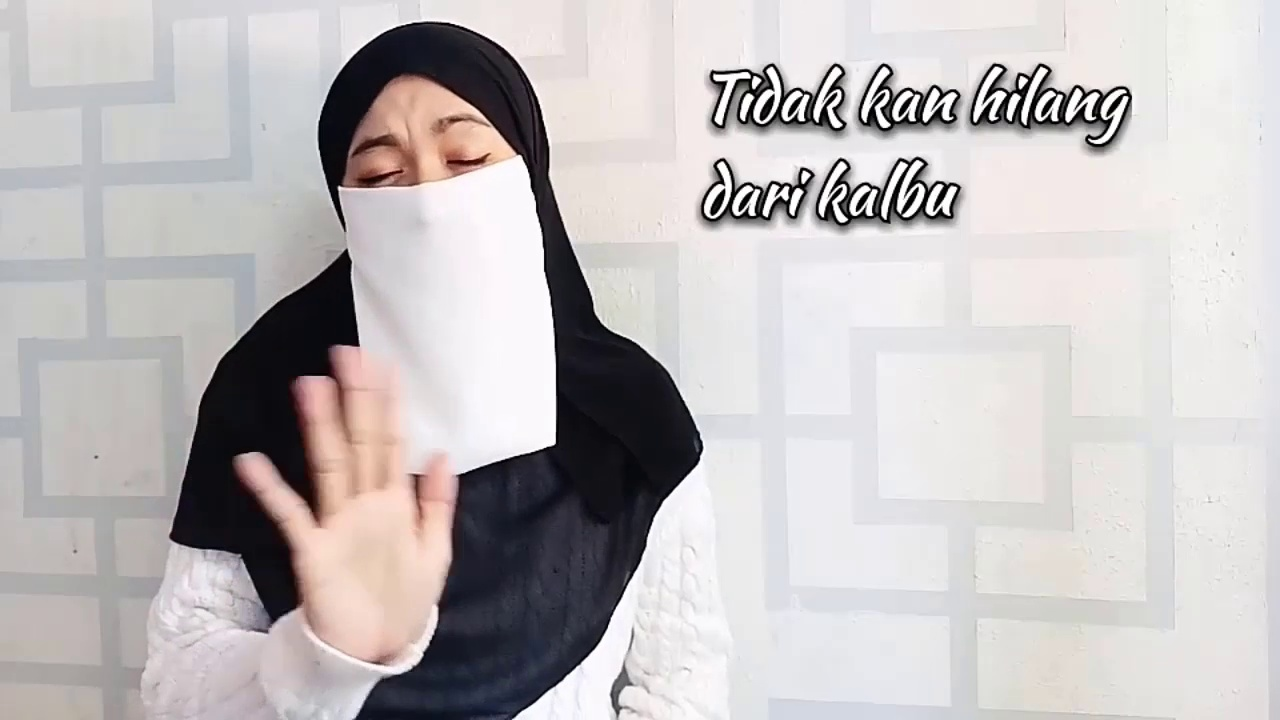TIDAK: (222, 19, 565, 688)
